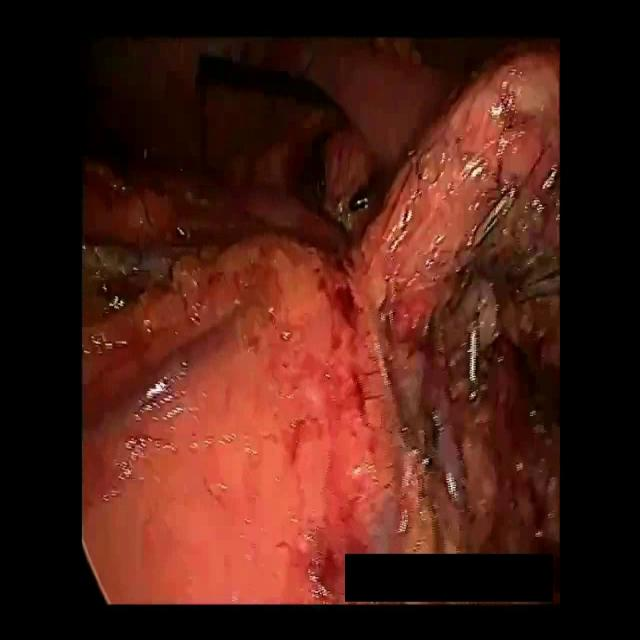surgical-area: (82, 39, 558, 604)
